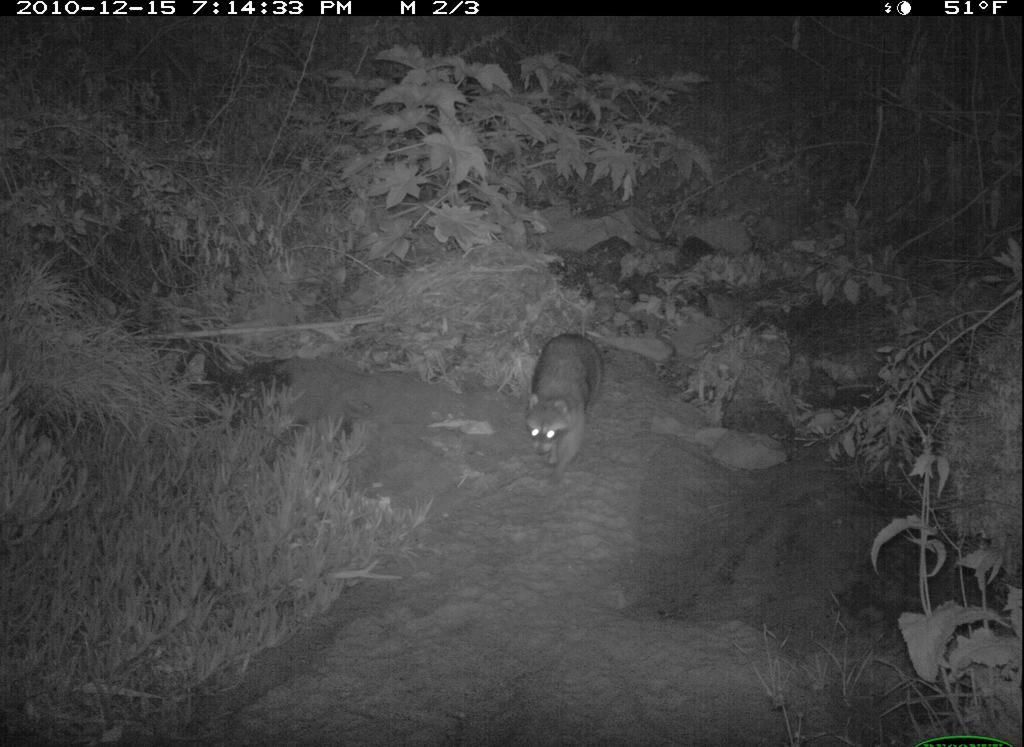raccoon: (502, 308, 628, 528)
